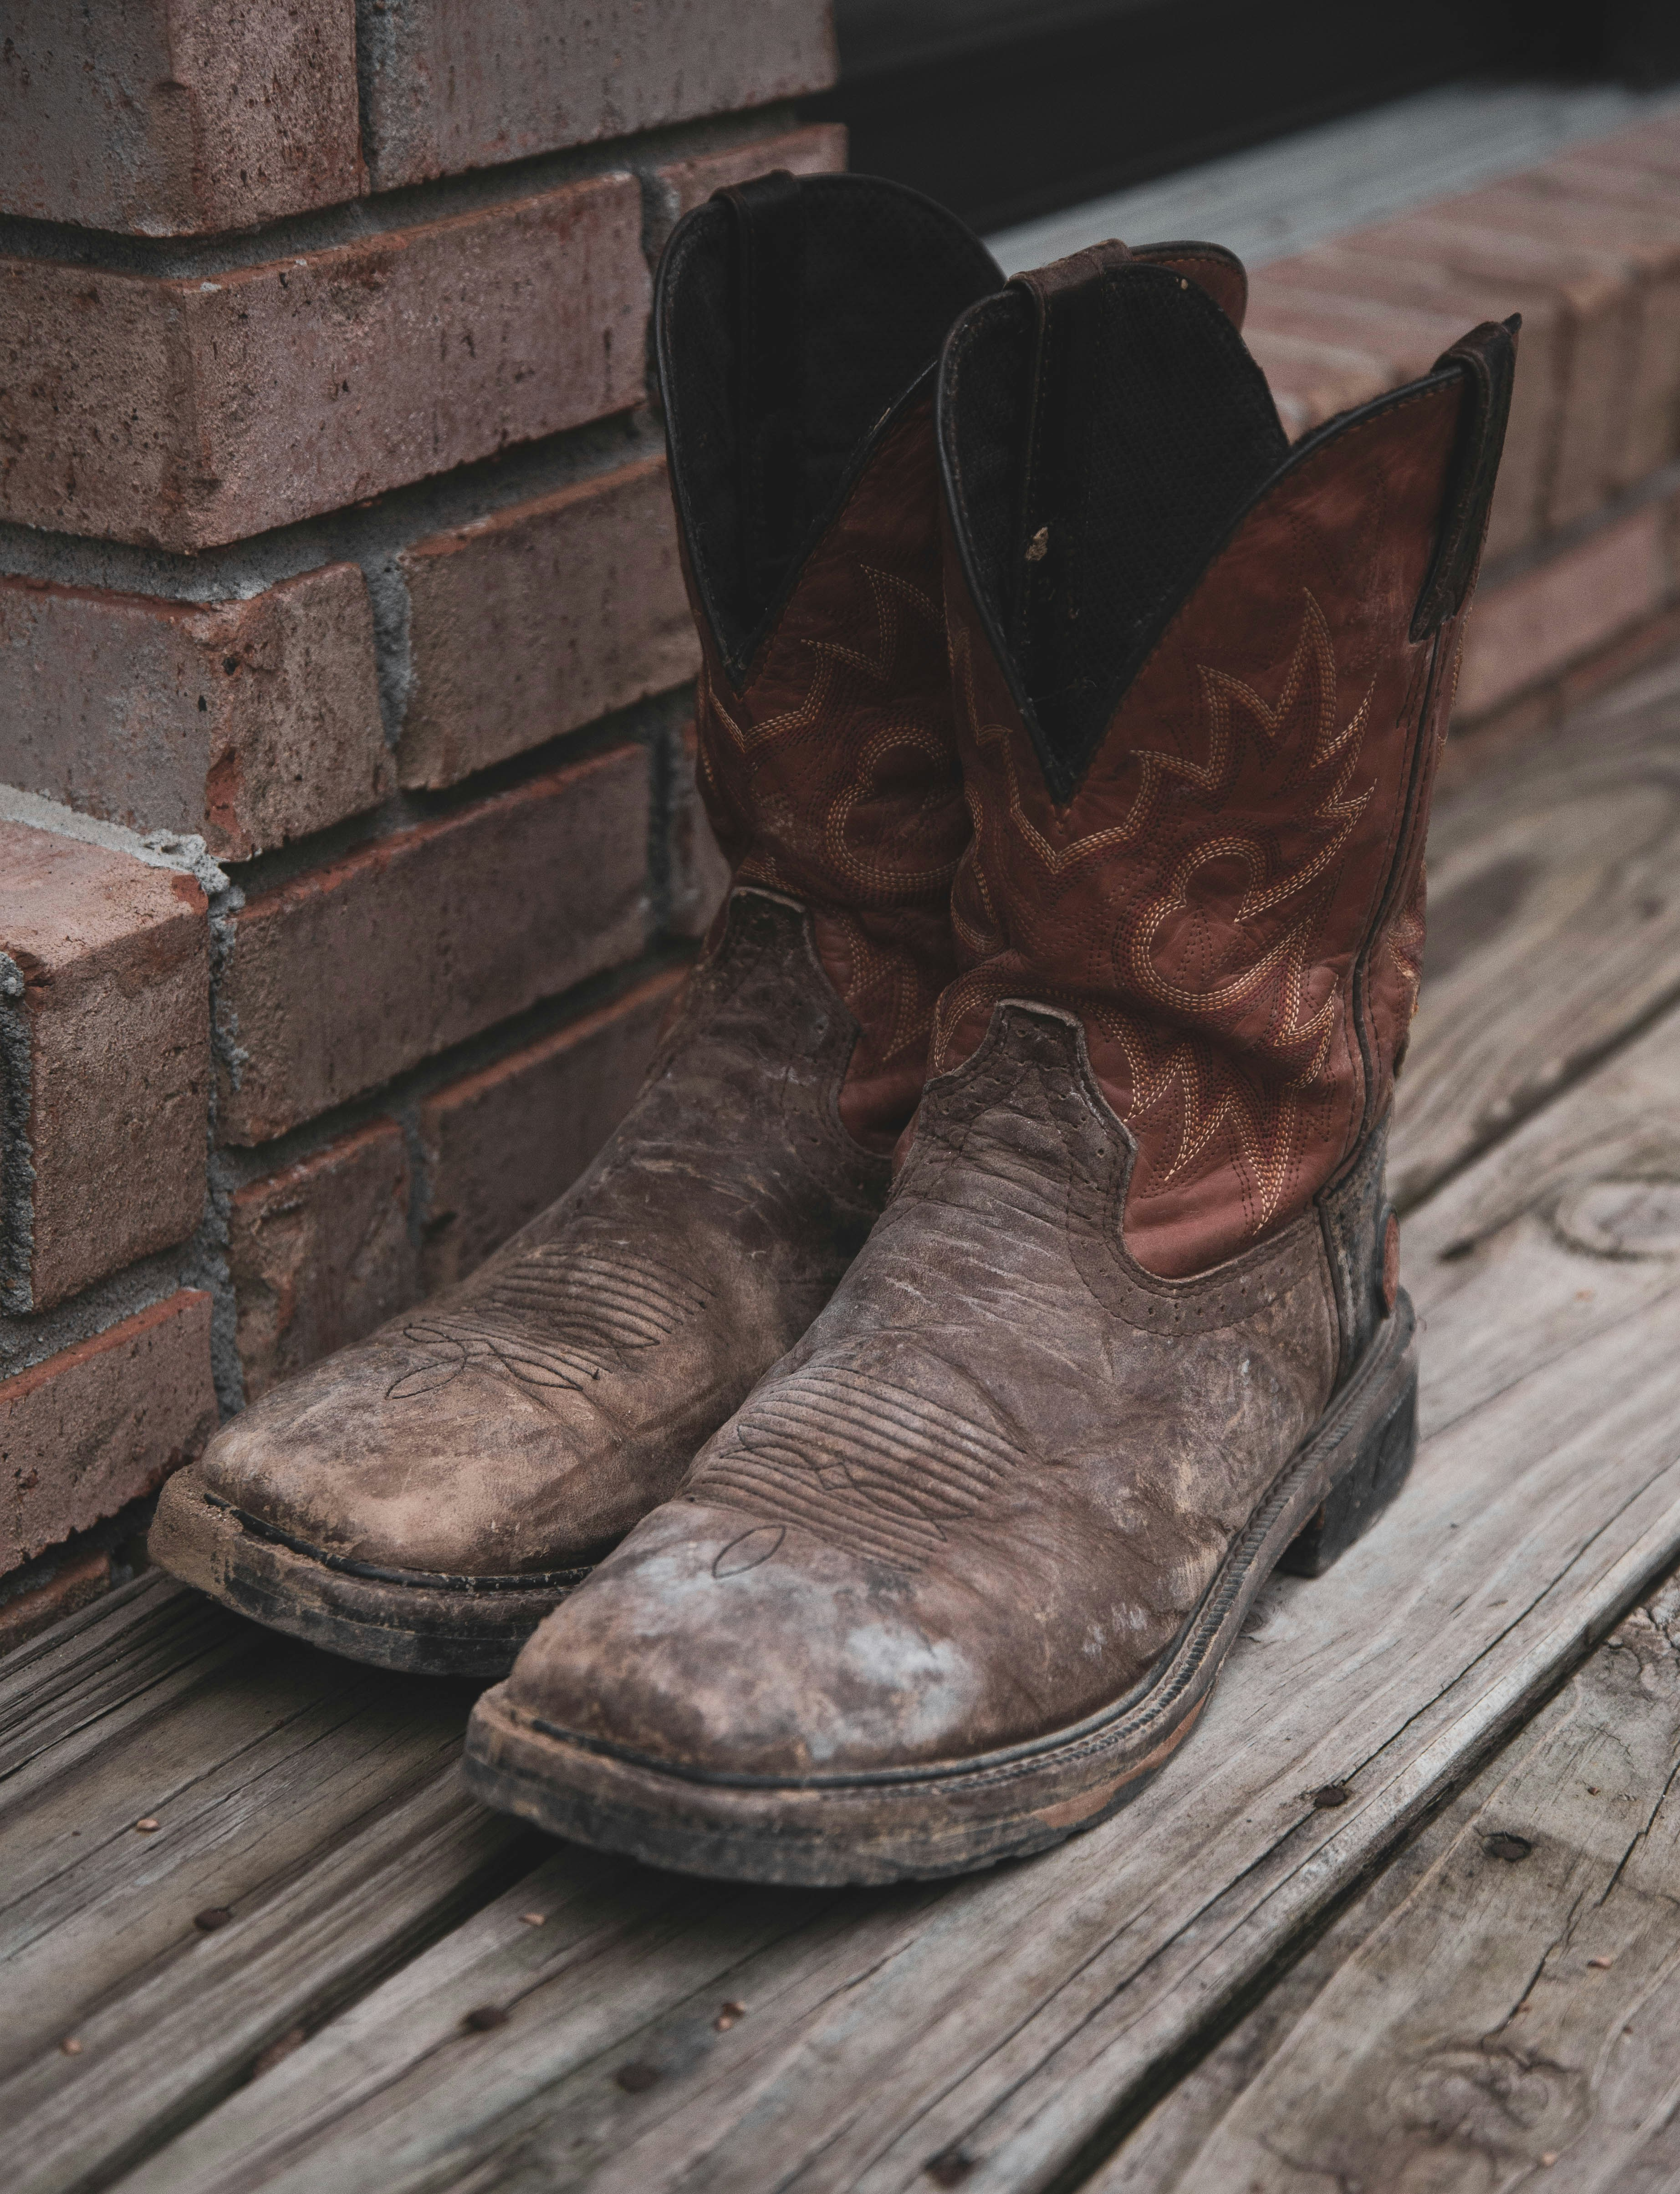Footwear: (168, 136, 1680, 1996)
